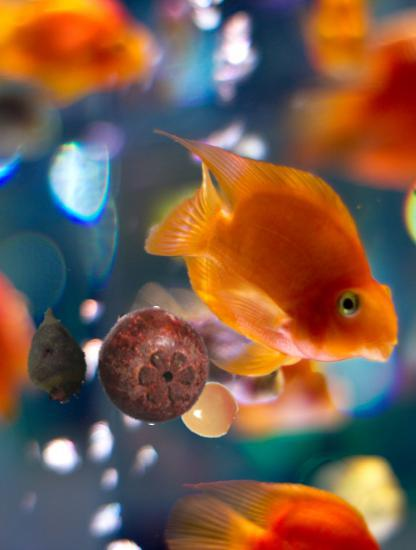Beetroot: (4, 305, 107, 408)
Mangostan: (94, 306, 213, 425)
Physalis: (178, 379, 237, 438)
